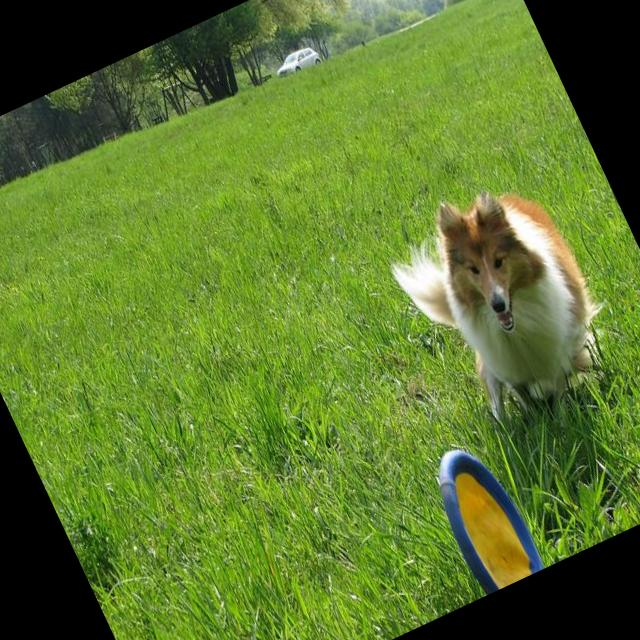car: (270, 42, 324, 82)
dog: (374, 160, 625, 436)
frisbee: (420, 431, 543, 588)
